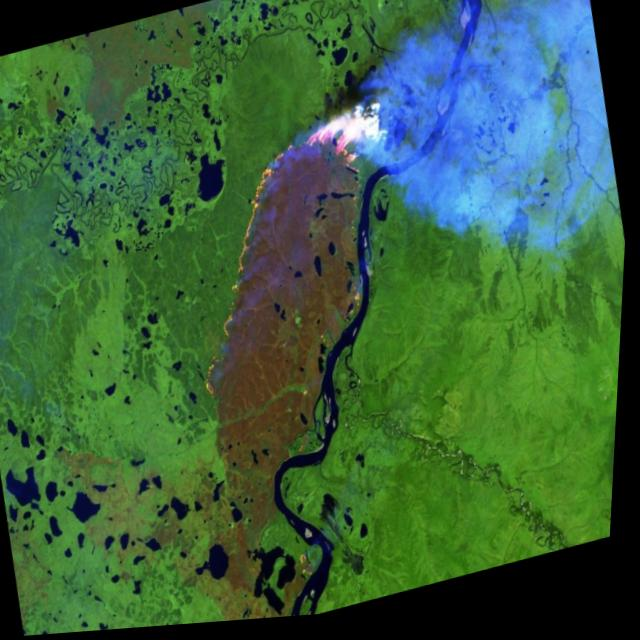fire: (158, 95, 435, 427)
